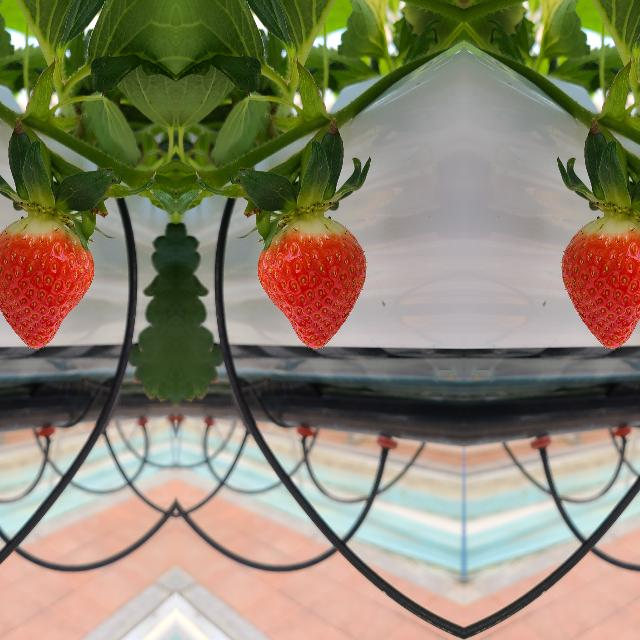Health_100: (256, 216, 366, 352), (0, 216, 94, 351), (560, 216, 640, 351)
